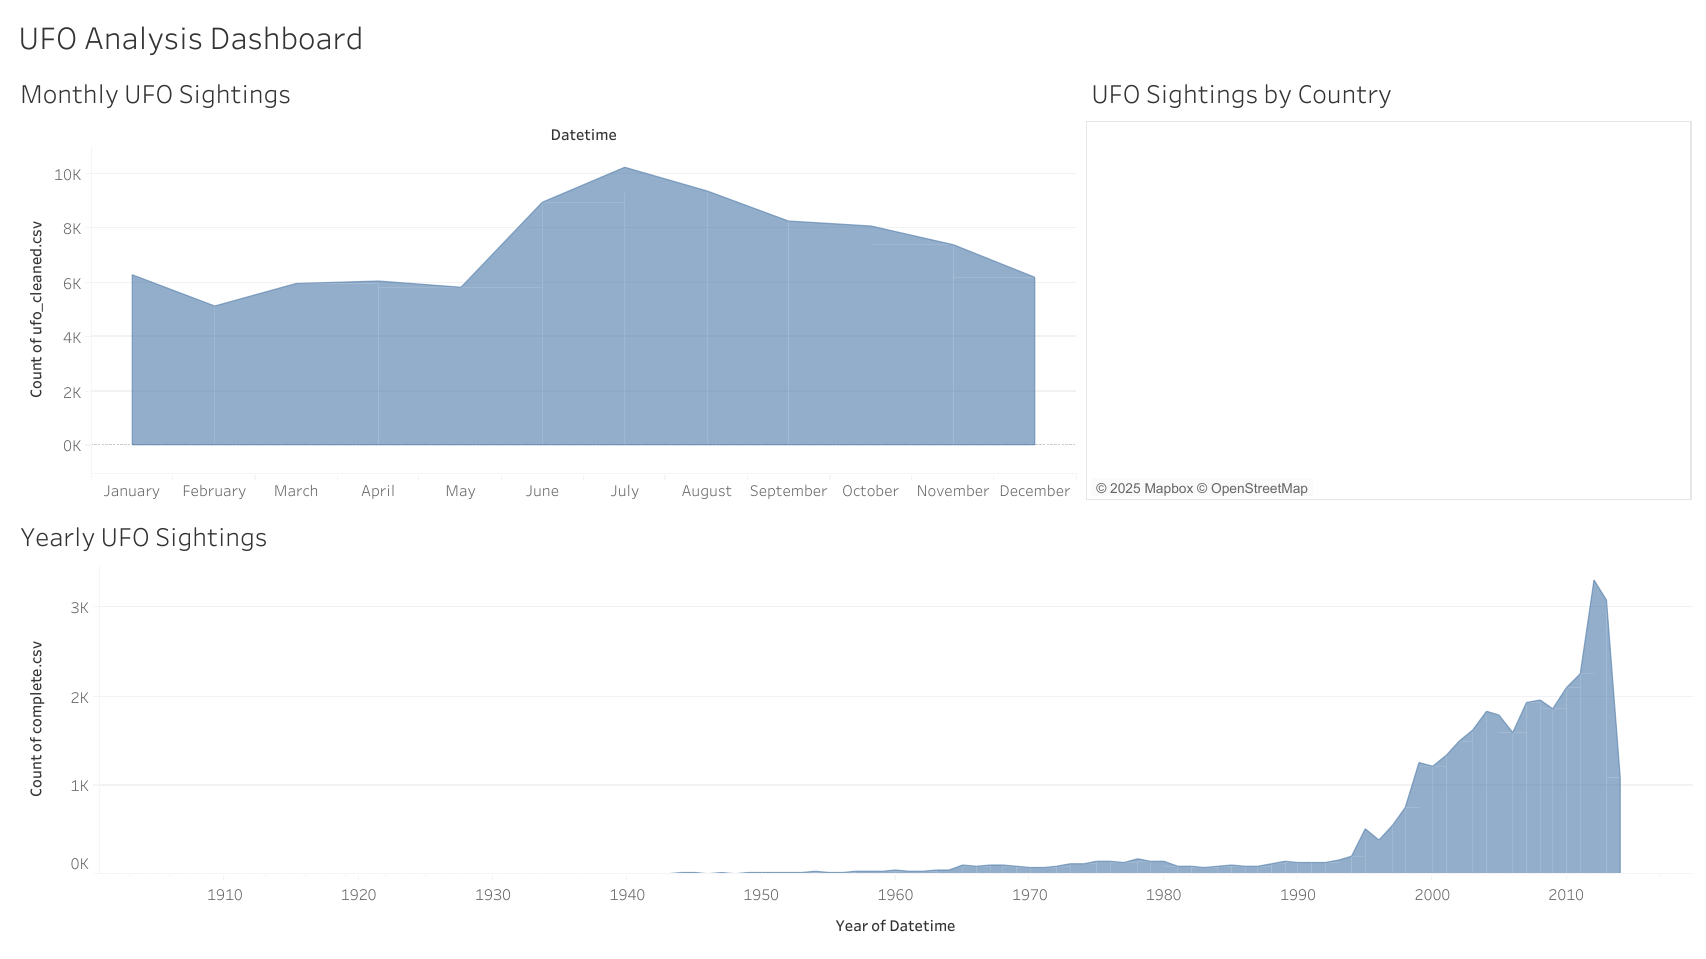

The dashboard page shown, as its layout file describes it:
{"tool":"tableau","page":{"name":"UFO Analysis Dashboard","canvas":[1366,768],"ordinal":0},"visuals":[{"type":"title","box":[8,8,1350,50]},{"type":"worksheet","title":"Monthly UFO Sightings","mark":"Area","rows":["ufo_cleaned.csv_405D7FAE04CD462BA2849AC69C2F5E7C"],"cols":["datetime"],"box":[8,58,857,351]},{"type":"worksheet","title":"UFO Sightings by Country","mark":"Automatic","box":[865,58,493,351]},{"type":"worksheet","title":"Yearly UFO Sightings","mark":"Area","rows":["complete.csv_CC462EA0FF3C4A82B61550A6F2F0835F"],"cols":["datetime"],"box":[8,409,1350,351]}]}

Visuals, with their boxes in screenshot pixels (x1, y1, x2, y2), scaled from the page's 1366x768 canvas onto the 1706x959 screenshot:
title: l=10, t=10, r=1696, b=72
"Monthly UFO Sightings" worksheet (Area marks): l=10, t=72, r=1080, b=511
"UFO Sightings by Country" worksheet: l=1080, t=72, r=1696, b=511
"Yearly UFO Sightings" worksheet (Area marks): l=10, t=511, r=1696, b=949
